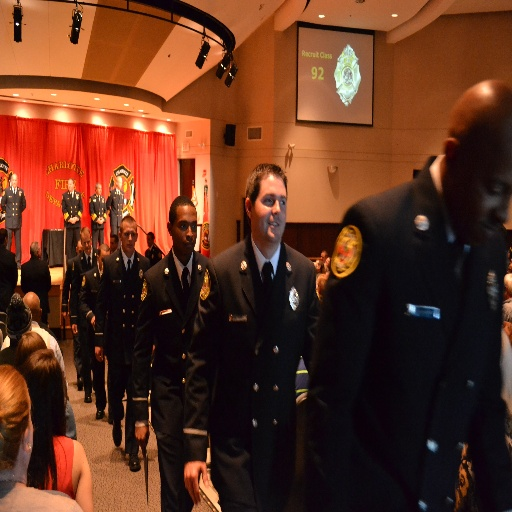hand: (178, 447, 207, 502), (132, 424, 150, 451), (95, 345, 104, 362), (71, 326, 78, 336), (90, 317, 95, 331)
